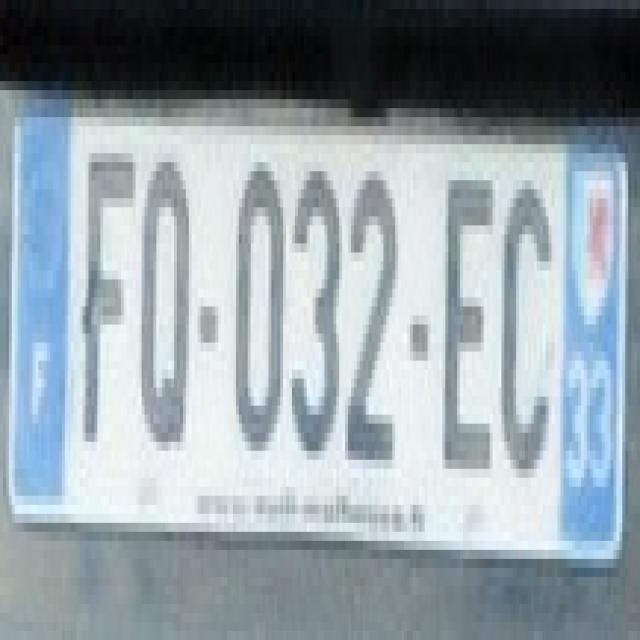EU: (7, 106, 626, 553)
France: (9, 96, 71, 505)
